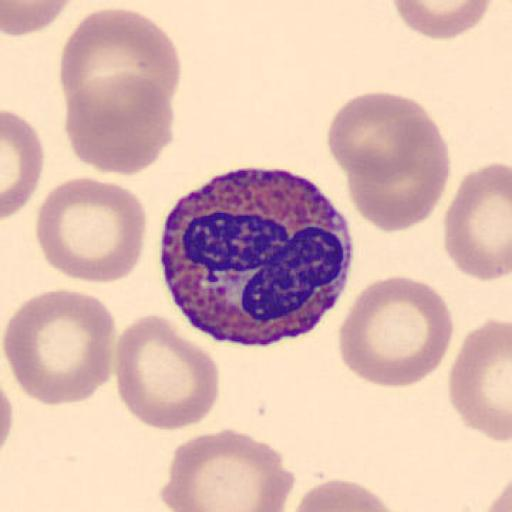RBC: (327, 91, 451, 232), (2, 286, 116, 408), (338, 274, 454, 389), (60, 6, 183, 114), (115, 312, 221, 433), (34, 174, 148, 284), (63, 70, 176, 177), (161, 427, 294, 512), (326, 90, 420, 184), (442, 159, 512, 282), (448, 318, 512, 444), (2, 108, 44, 221), (390, 0, 494, 41), (290, 476, 405, 512), (2, 0, 78, 38), (0, 360, 14, 462), (0, 380, 14, 456), (483, 475, 512, 511)
WBC: (159, 162, 354, 346)
